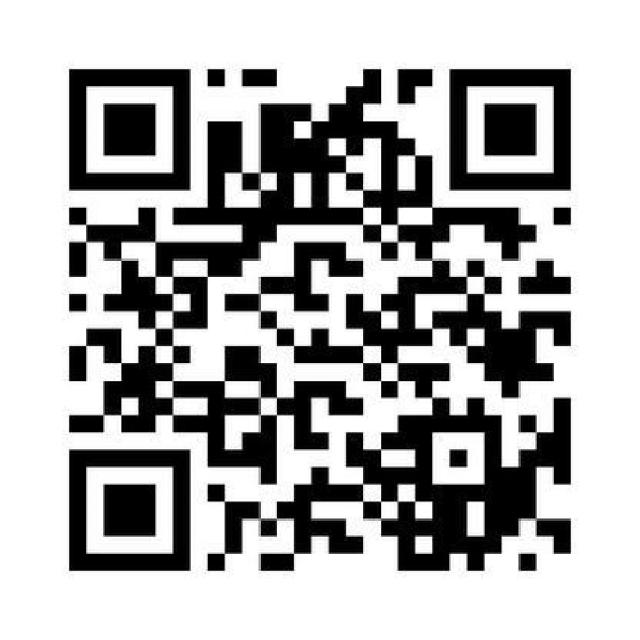QRCode: (56, 58, 585, 582)
